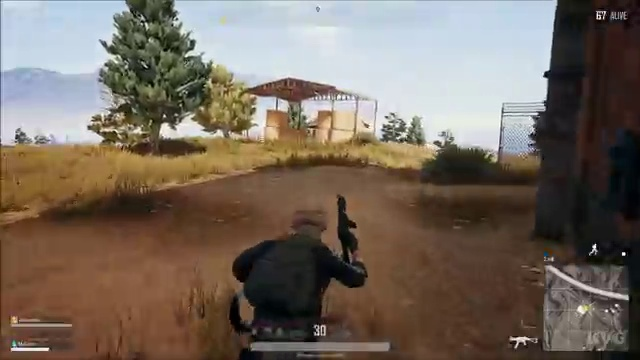Player: (208, 185, 402, 321)
